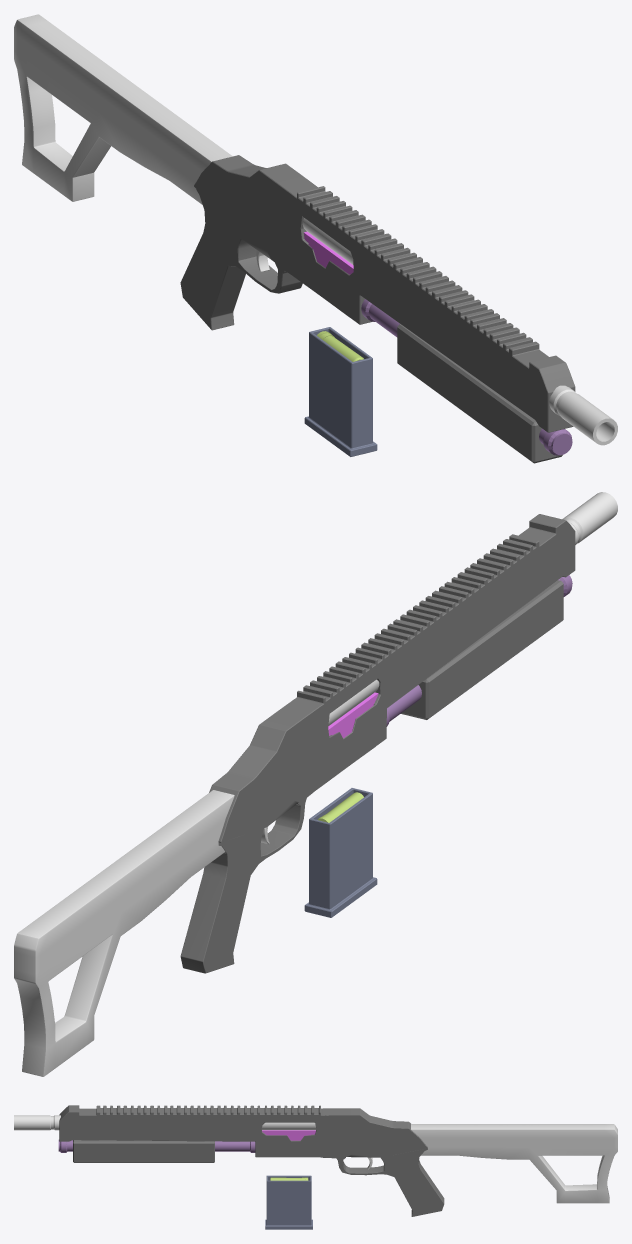
Rendered from Fixed_Shotgun.fbx.
3 renders of one model, top to bottom at view 1: azimuth 30°, elevation 25°; view 2: azimuth 150°, elevation 25°; view 3: azimuth 270°, elevation 25°, orthographic. The views are drawn at different scales.
Parts seen in each view (by area): view 1: Barrel_low, Arm_Rest_low, Magazine_low, Slider_low, Shaft_low, Slide_low, Hopup_low; view 2: Barrel_low, Arm_Rest_low, Magazine_low, Slider_low, Shaft_low; view 3: Barrel_low, Arm_Rest_low, Slider_low, Magazine_low, Shaft_low, Slide_low, Hopup_low.
Boxes of the visible parts, <box> form: Barrel_low: <box>180,155,575,432</box>; Arm_Rest_low: <box>14,14,232,204</box>; Magazine_low: <box>304,327,377,456</box>; Slider_low: <box>397,324,562,463</box>; Shaft_low: <box>302,218,617,445</box>; Slide_low: <box>361,299,572,455</box>; Hopup_low: <box>303,231,353,274</box>; Barrel_low: <box>180,514,575,973</box>; Arm_Rest_low: <box>14,790,234,1076</box>; Magazine_low: <box>304,788,377,917</box>; Slider_low: <box>401,580,563,719</box>; Shaft_low: <box>328,492,617,725</box>; Barrel_low: <box>59,1105,444,1216</box>; Arm_Rest_low: <box>411,1124,617,1203</box>; Slider_low: <box>73,1140,214,1162</box>; Magazine_low: <box>265,1175,312,1229</box>; Shaft_low: <box>14,1115,316,1130</box>; Slide_low: <box>58,1140,255,1152</box>; Hopup_low: <box>262,1130,315,1140</box>.
Size of the model in its own units: 9.81 by 66.36 by 308.
